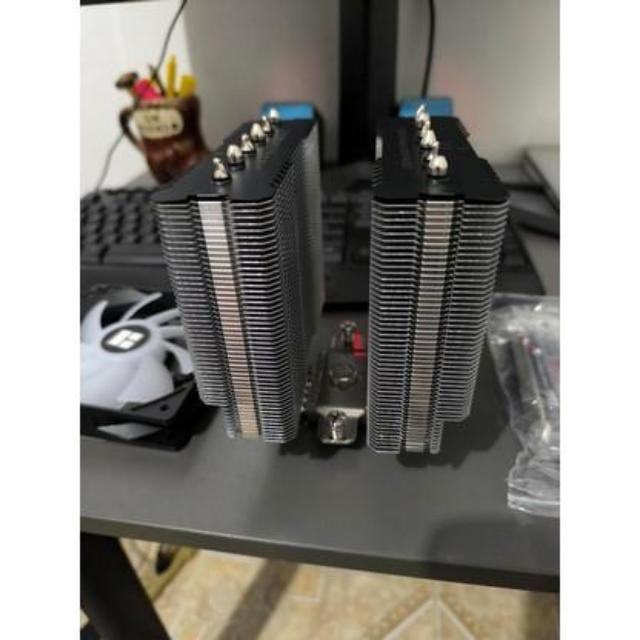CPU_Fan: (150, 109, 516, 462)
